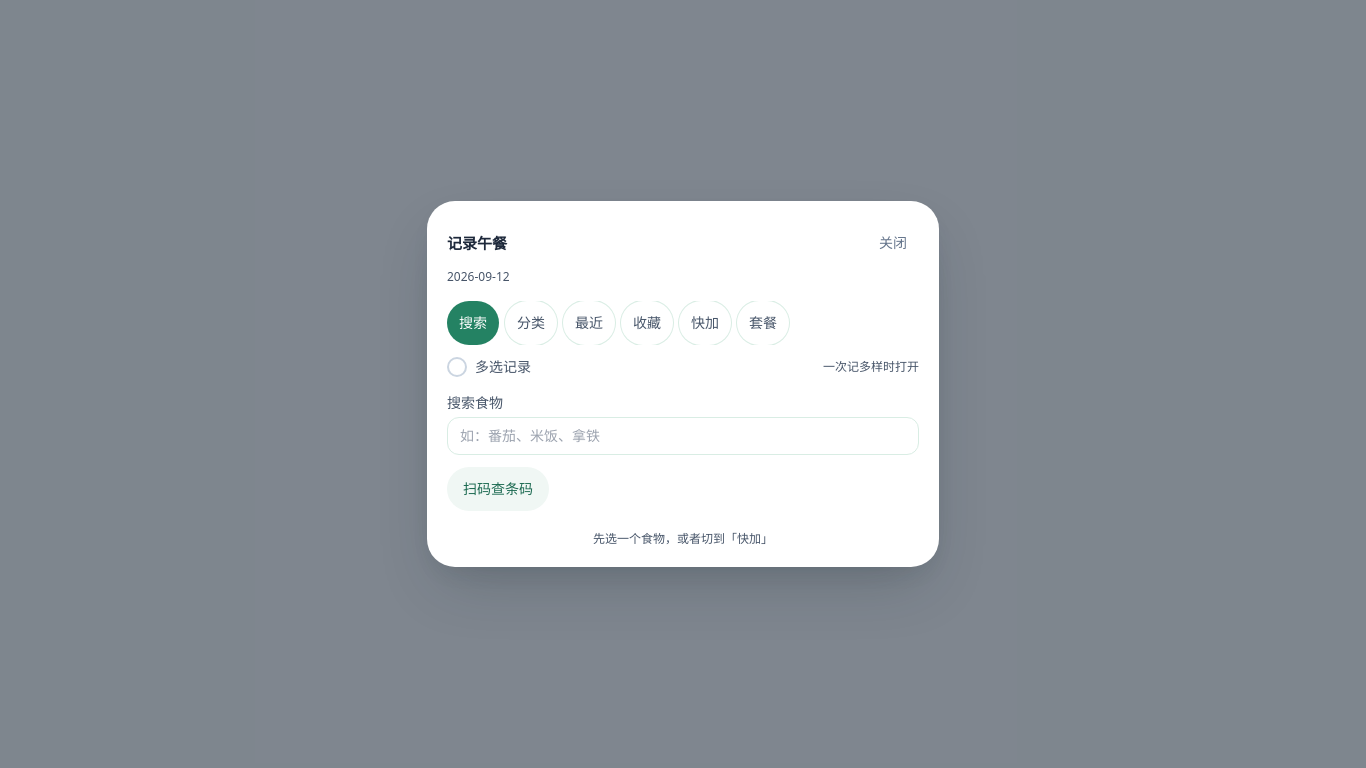
加载更多（阶段 2.4）：按 total 稳定翻页、不重复 › 鼠标点击「加载更多」→ 追加下一页并如实更新已显示条数
Type "蘑菇" into the field labelled "搜索食物" at (683, 436), box [447,417,919,455]
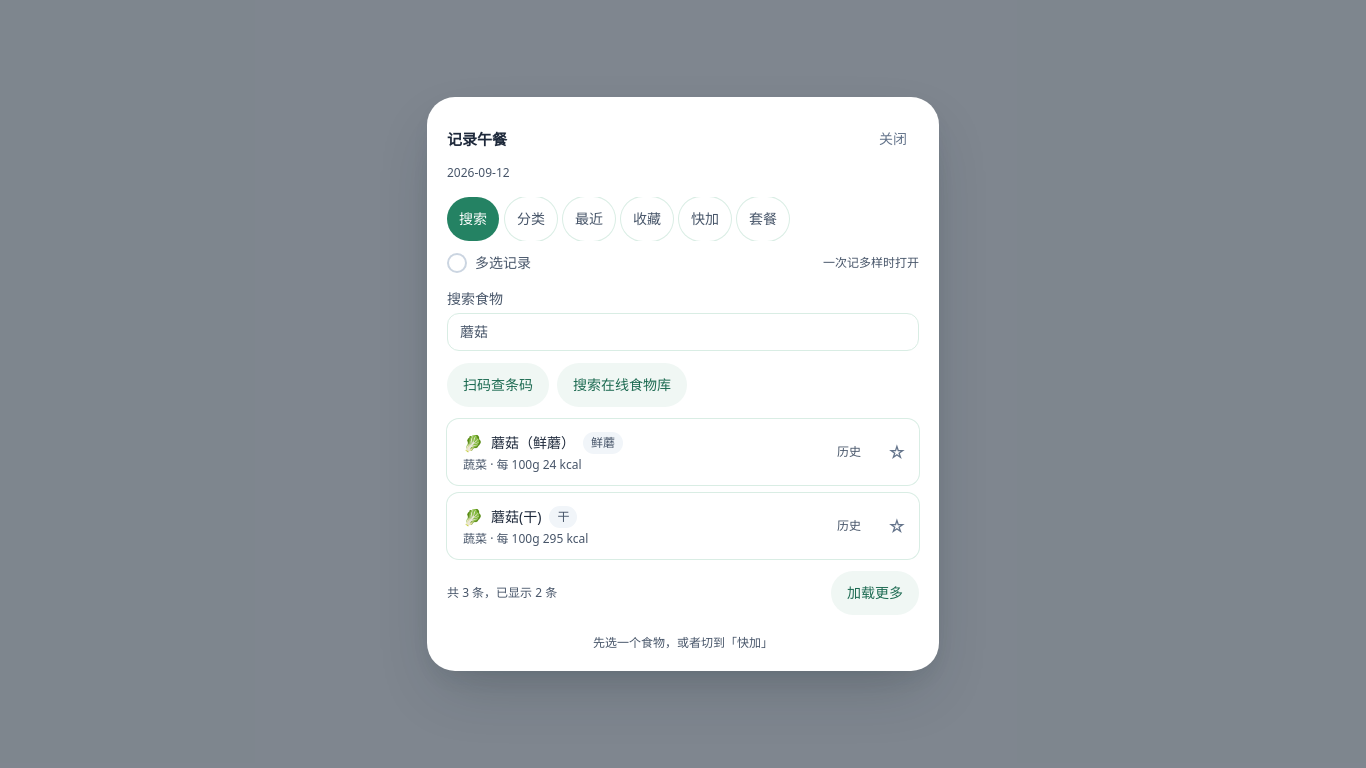
Now the text "共 3 条，已显示 2 条" is shown, box [447,585,557,601]
Click the button "加载更多" at (875, 593), box [831,571,919,615]
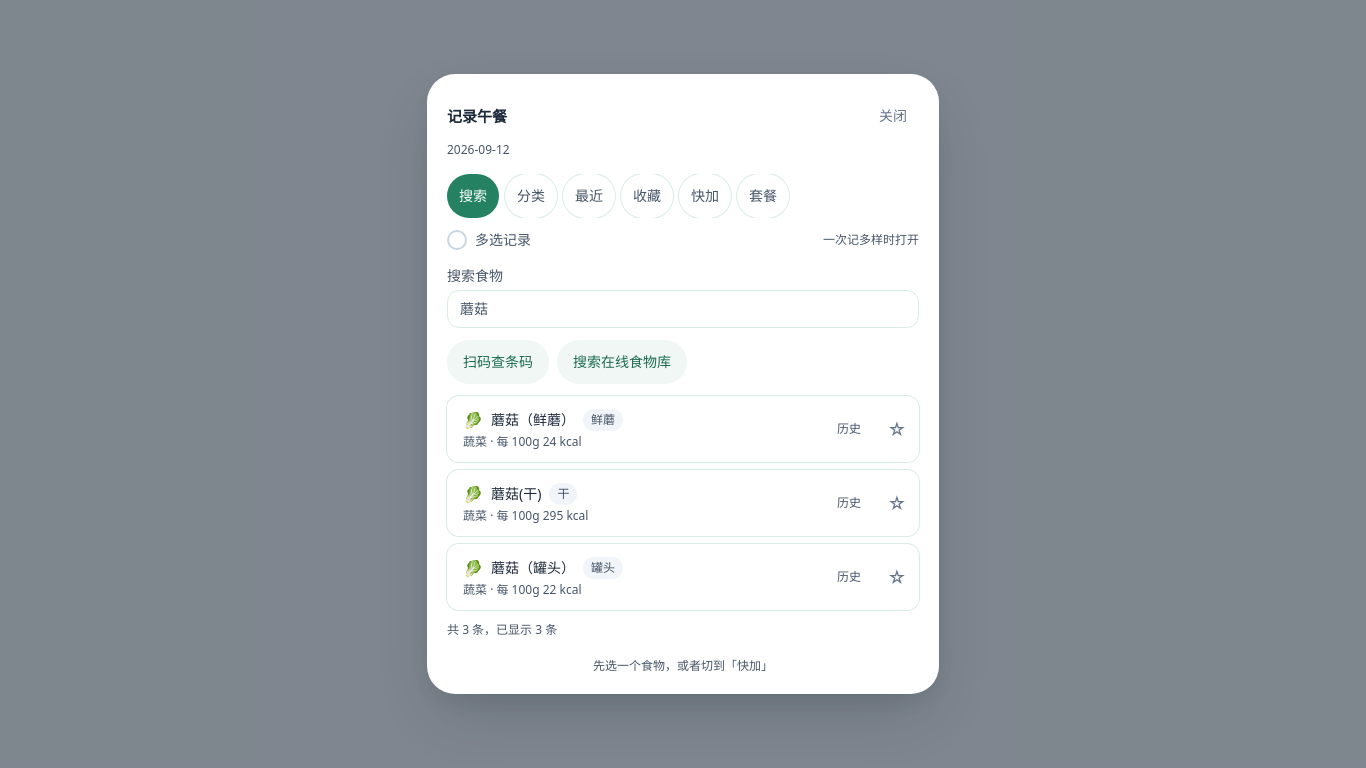
Now the text "共 3 条，已显示 3 条" is shown, box [447,622,557,638]
Now the button "加载更多" is gone
